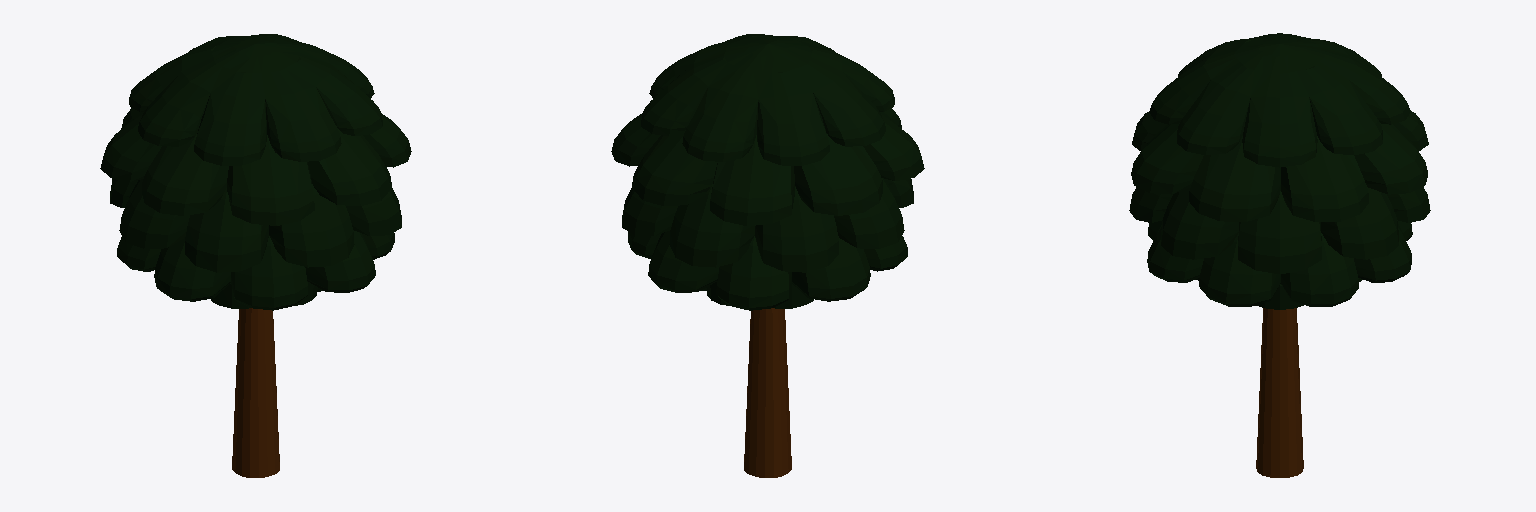
The model's file is Tree.obj.
The picture shows the model from 3 angles: view 1: azimuth 30°, elevation 25°; view 2: azimuth 150°, elevation 25°; view 3: azimuth 270°, elevation 25°; orthographic projection.
Visible parts, largest first — view 1: Tree_Cube.118; view 2: Tree_Cube.118; view 3: Tree_Cube.118.
Boxes of the visible parts, x1=… form: Tree_Cube.118: x1=100, y1=34, x2=411, y2=477; Tree_Cube.118: x1=611, y1=34, x2=924, y2=477; Tree_Cube.118: x1=1129, y1=33, x2=1430, y2=477.
Size of the model in its own units: 5.53 by 8.63 by 5.55.